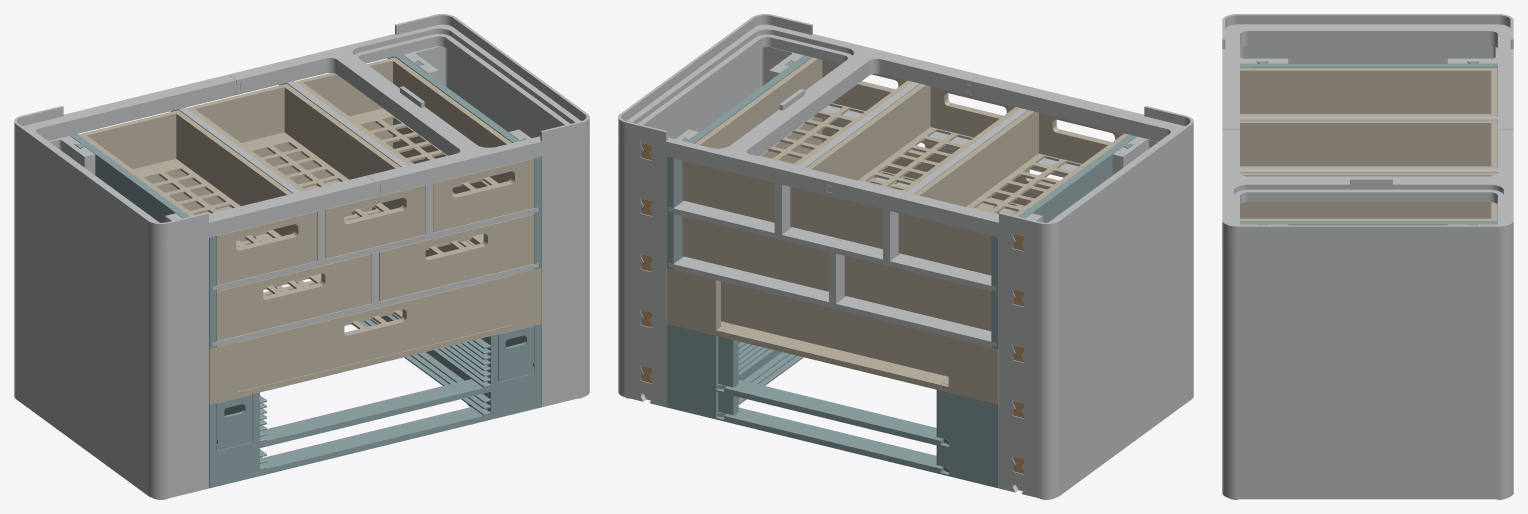
File: stacknest-v54-assembly.glb
The picture shows the model from 3 angles, left to right: view 1: azimuth 30°, elevation 25°; view 2: azimuth 150°, elevation 25°; view 3: azimuth 270°, elevation 25°; orthographic projection.
Visible parts, largest first — view 1: F02, E03, E04, F01, C07, E05, E06, C09, B07, D04, D03, D02 (+25 smaller); view 2: F02, F01, E04, E03, E06, C09, D04, B07, E05, C08, D03, E07 (+25 smaller); view 3: F02, E07, C10, B08, D05, E03, E04, F01, A06, E05, E06, E01 (+3 smaller).
Part boxes in pixels (bbox=[...]): F02: bbox=[229, 14, 589, 196]; E03: bbox=[78, 110, 317, 285]; E04: bbox=[187, 83, 425, 258]; F01: bbox=[14, 74, 379, 248]; C07: bbox=[238, 240, 512, 391]; E05: bbox=[295, 57, 533, 232]; E06: bbox=[14, 136, 208, 303]; C09: bbox=[14, 258, 208, 415]; B07: bbox=[14, 314, 208, 471]; D04: bbox=[14, 202, 208, 359]; D03: bbox=[254, 118, 533, 301]; D02: bbox=[146, 170, 371, 340]; F02: bbox=[618, 14, 978, 196]; F01: bbox=[828, 74, 1193, 248]; E04: bbox=[790, 84, 1020, 248]; E03: bbox=[898, 110, 1128, 275]; E06: bbox=[999, 136, 1193, 303]; C09: bbox=[999, 258, 1193, 415]; D04: bbox=[999, 202, 1193, 359]; B07: bbox=[999, 314, 1193, 471]; E05: bbox=[682, 57, 912, 222]; C08: bbox=[721, 281, 948, 376]; D03: bbox=[682, 116, 954, 291]; E07: bbox=[618, 47, 803, 211]; F02: bbox=[1222, 129, 1513, 250]; E07: bbox=[1222, 224, 1513, 305]; C10: bbox=[1222, 356, 1513, 416]; B08: bbox=[1222, 411, 1513, 471]; D05: bbox=[1222, 301, 1513, 360]; E03: bbox=[1240, 68, 1497, 116]; E04: bbox=[1240, 120, 1497, 168]; F01: bbox=[1222, 14, 1513, 129]; A06: bbox=[1222, 466, 1513, 499]; E05: bbox=[1240, 172, 1497, 220]; E06: bbox=[1240, 46, 1497, 63]; E01: bbox=[1240, 116, 1497, 168].
Size of the model in its own units: 0.495 by 0.299 by 0.287.
